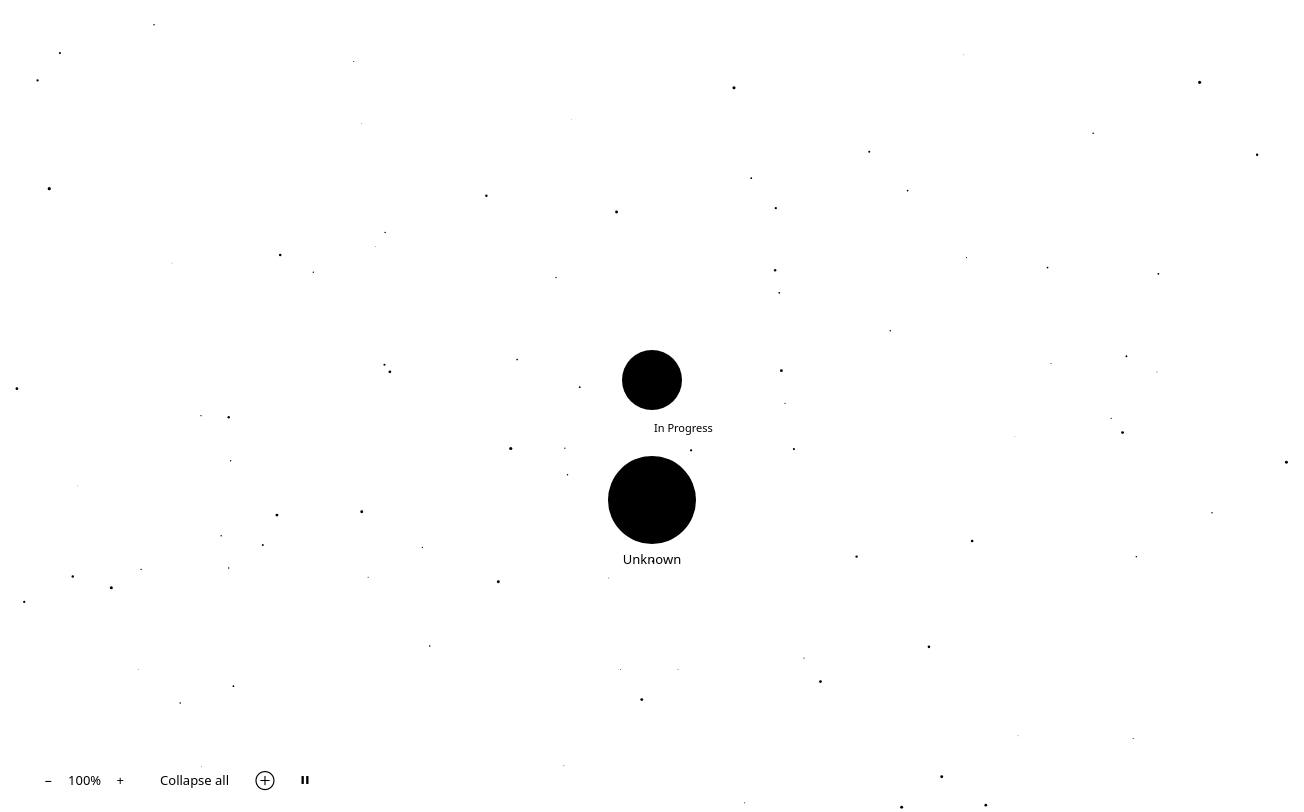
it: the orbit motion › stops and starts on request
Click the button named "Pause orbit animation" at (305, 780), box [289,764,321,796]
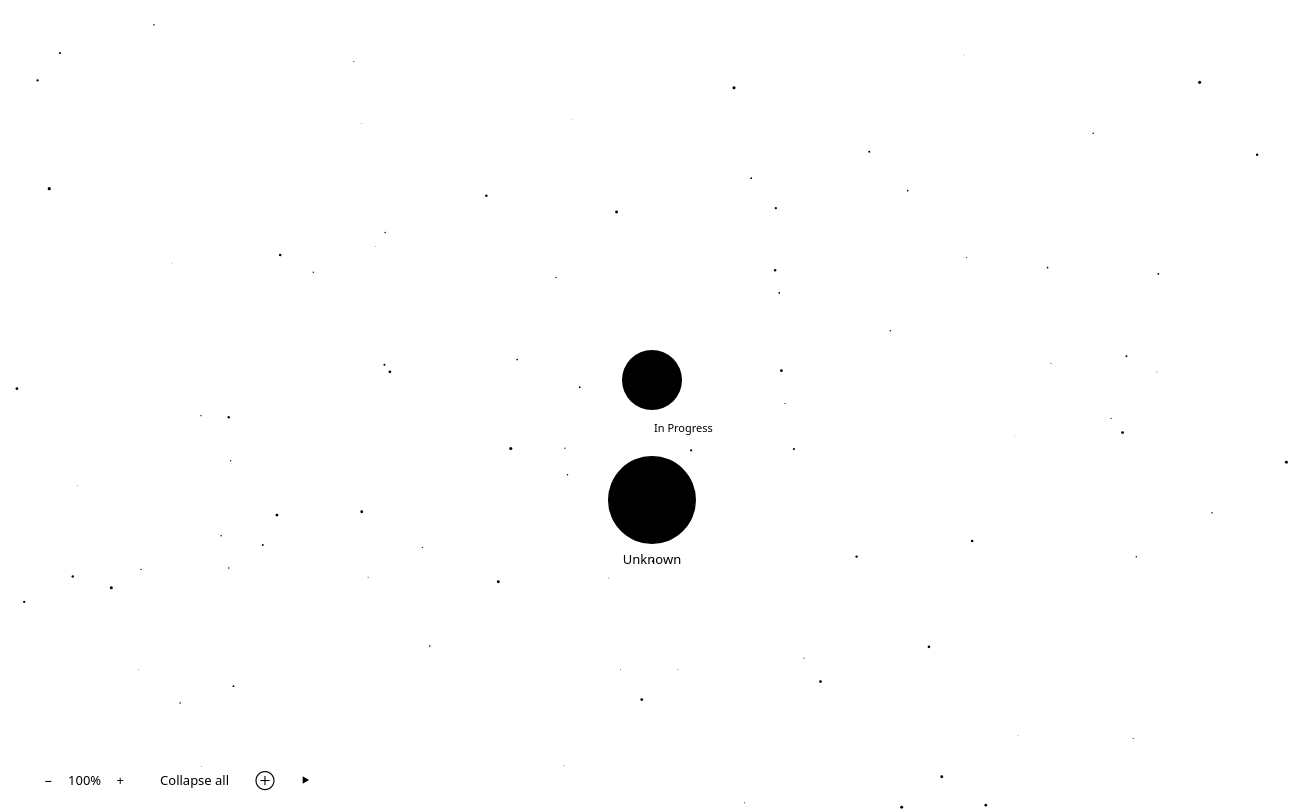
Check: the button named "Play orbit animation" is shown, box [289,764,321,796]
